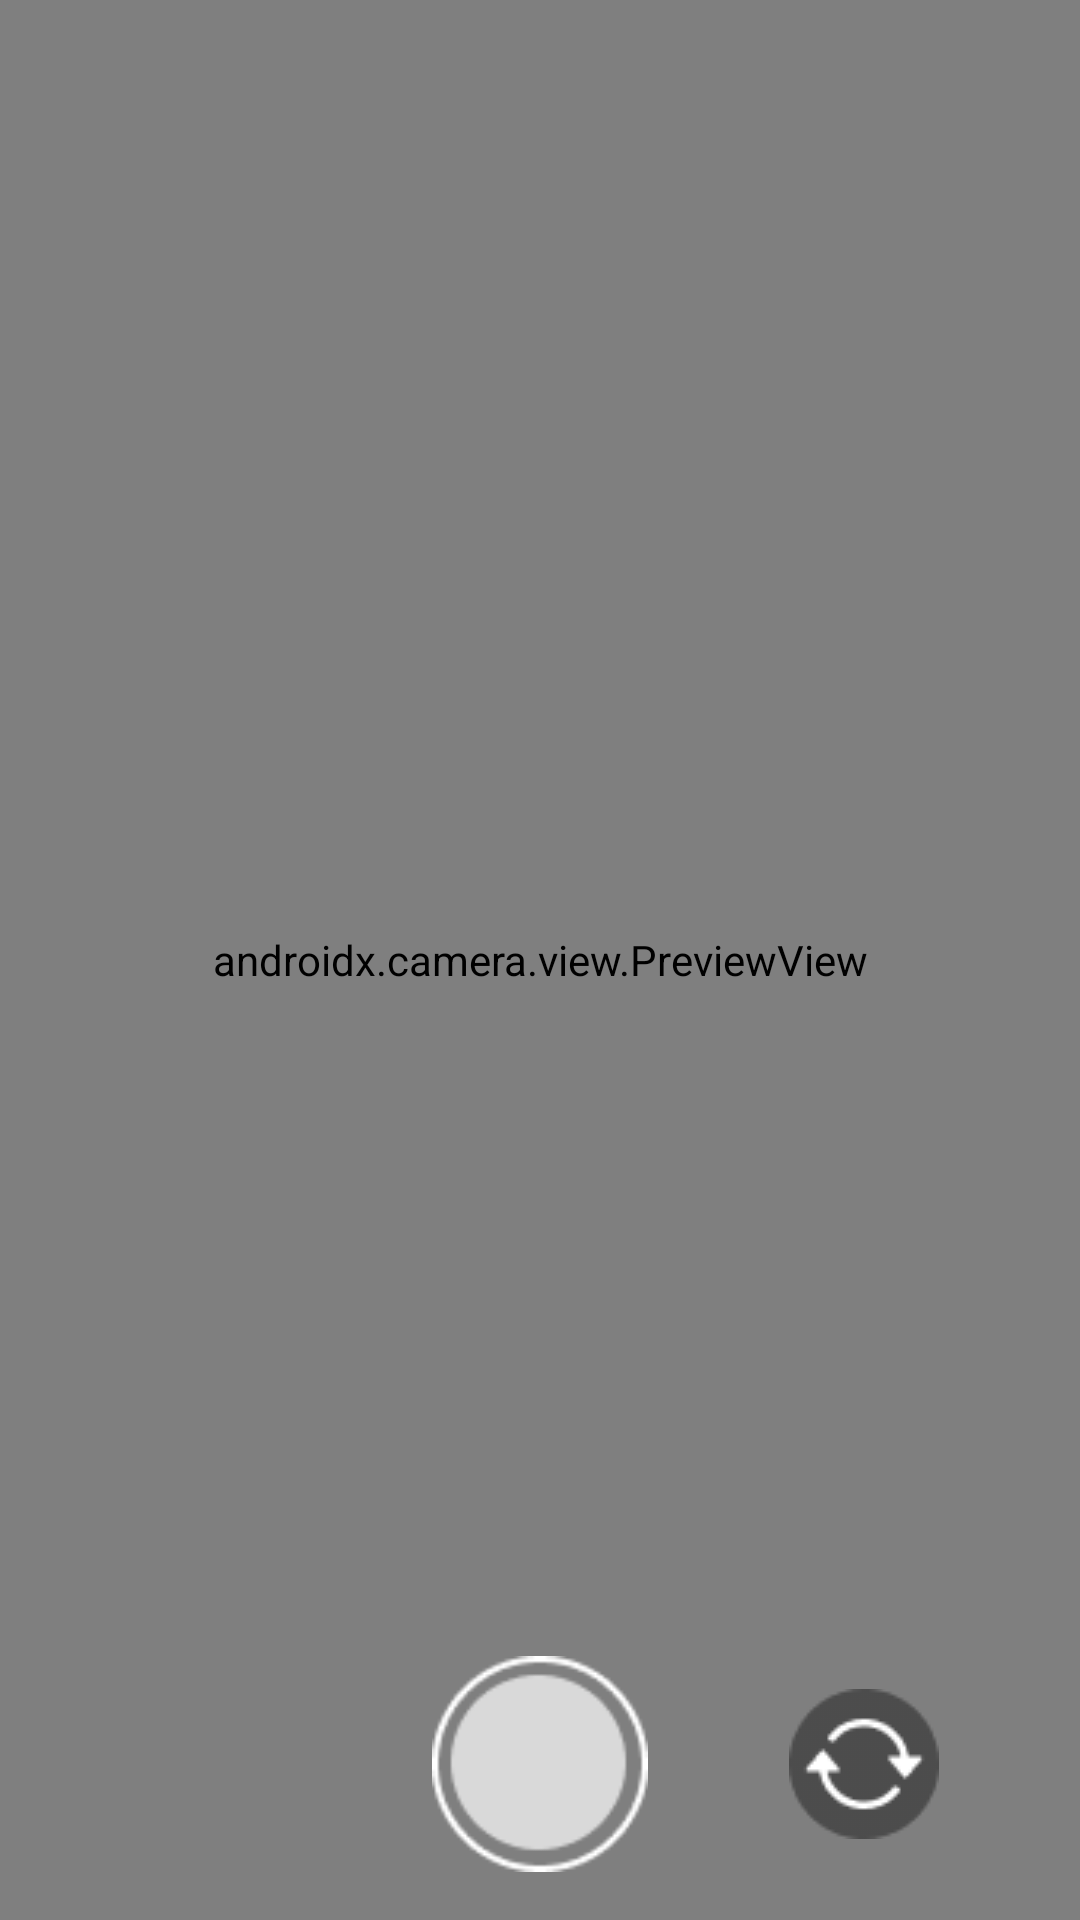

Where to tap for icons on this 1080 × 1920 app screen, as [x,y]:
Switch Camera: [864,1764]
Take Photo: [540,1764]
